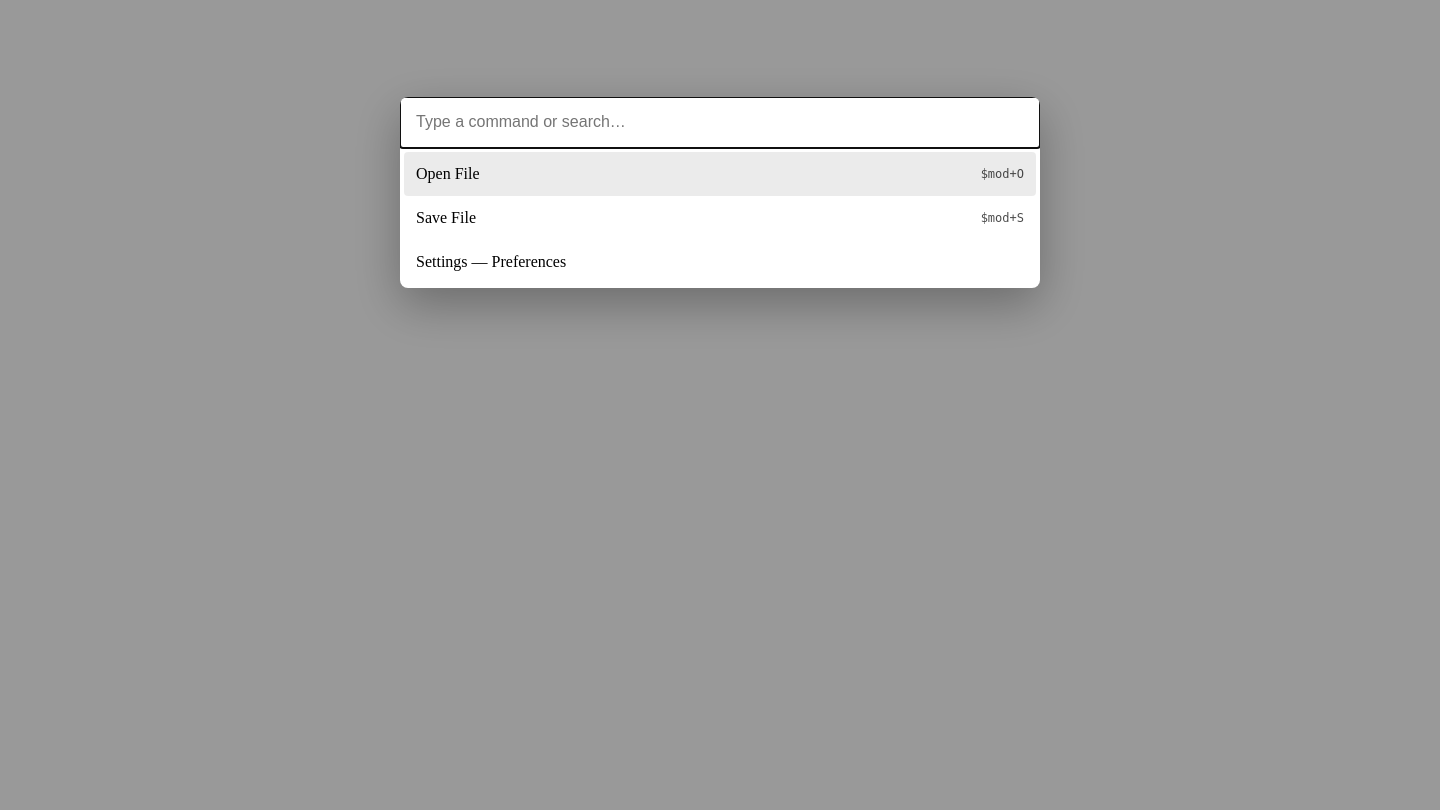
Test case: <CommandPalette> › filters options as the user types (type-to-filter)
The width and height of the screenshot is (1440, 810).
In the dropdown: (720,123) [400, 97, 1040, 148], type "save"
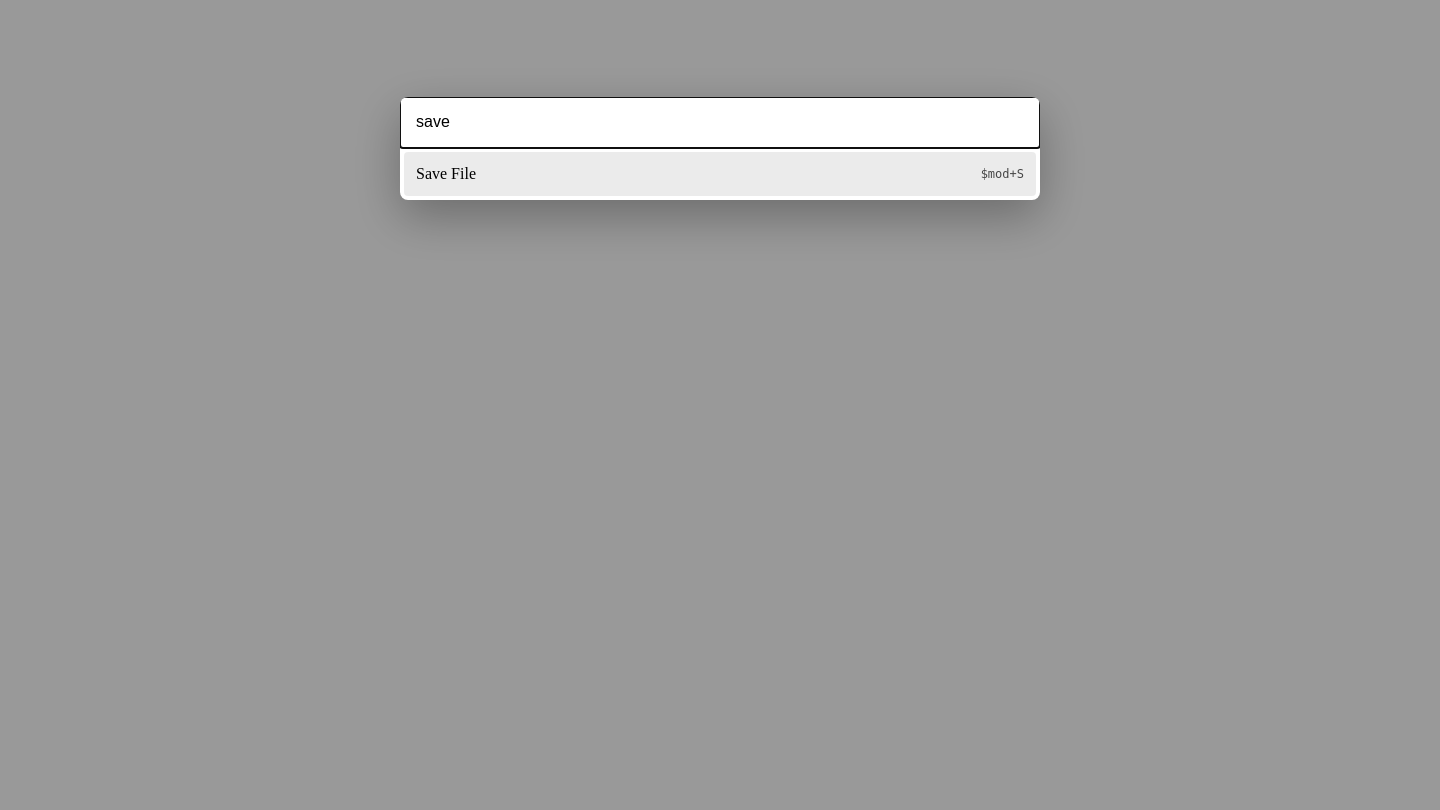
Check: the option shows "Save File", box [404, 152, 1036, 196]
Check: the number of options is 1, box [404, 152, 1036, 196]
